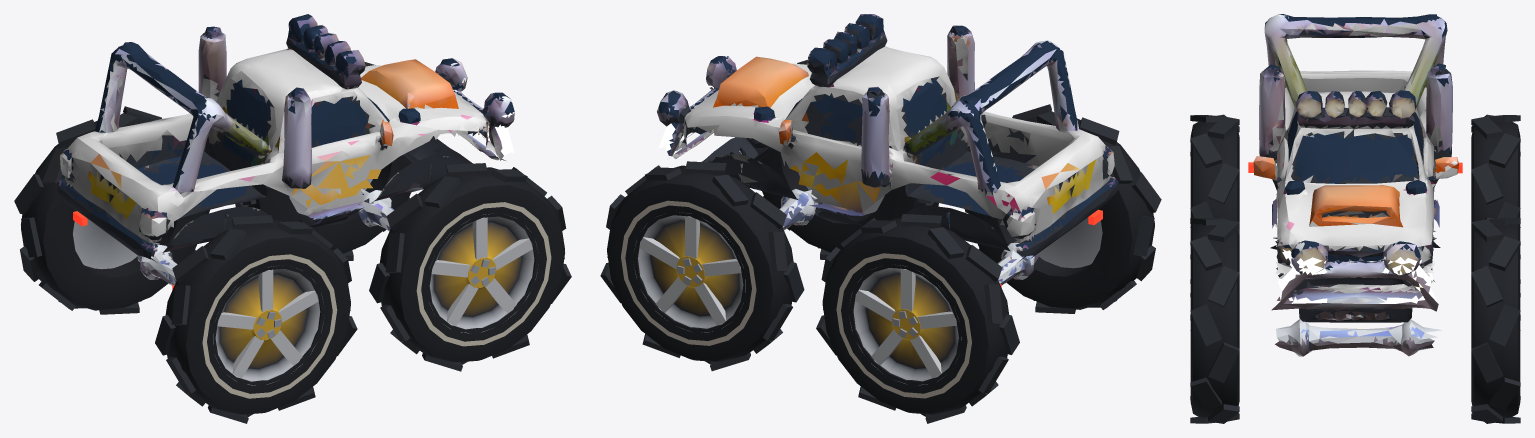
File: car-bertha.glb
3 renders of one model, left to right at view 1: azimuth 30°, elevation 25°; view 2: azimuth 150°, elevation 25°; view 3: azimuth 270°, elevation 25°, orthographic. The views are drawn at different scales.
Visible parts, largest first — view 1: body, wheel_rr, wheel_fr, wheel_rl, wheel_fl; view 2: body, wheel_rl, wheel_fl, wheel_rr, wheel_fr; view 3: body, wheel_fl, wheel_fr, wheel_rl, wheel_rr.
Boxes of the visible parts, x1,y1,x2,y2 form: body: (57,14,514,289); wheel_rr: (155,215,357,423); wheel_fr: (369,163,571,371); wheel_rl: (14,106,209,314); wheel_fl: (235,62,412,260); body: (657,14,1118,287); wheel_rl: (816,214,1019,423); wheel_fl: (600,161,804,371); wheel_rr: (964,104,1161,313); wheel_fr: (750,60,938,259); body: (1248,14,1462,356); wheel_fl: (1471,217,1520,423); wheel_fr: (1190,217,1239,423); wheel_rl: (1471,114,1520,320); wheel_rr: (1190,114,1239,320).
Size of the model in its own units: 5.85 by 4.14 by 4.31.
